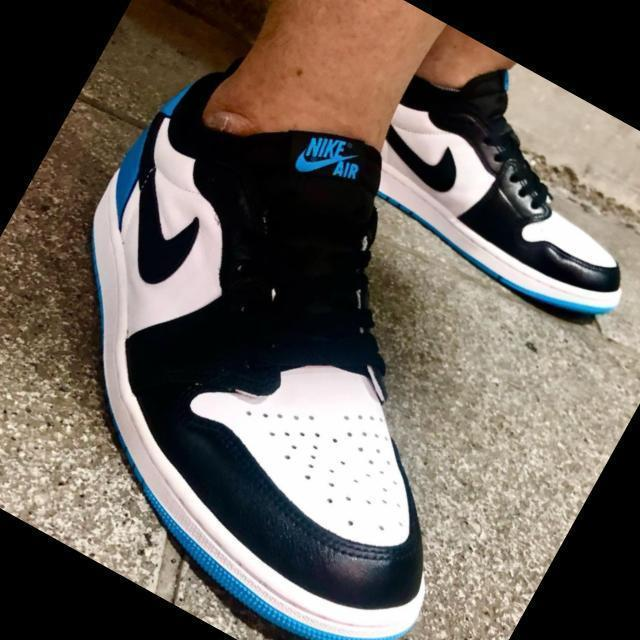nike original jordan 1: (0, 27, 607, 640)
